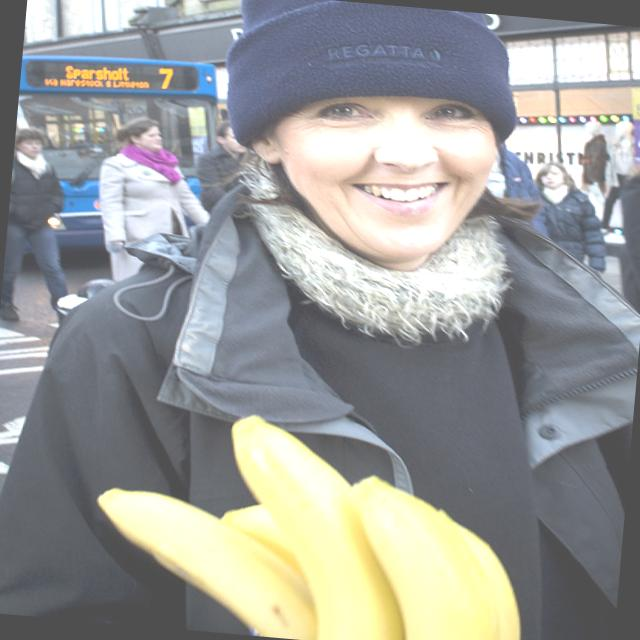Vehicle: (7, 48, 222, 258)
